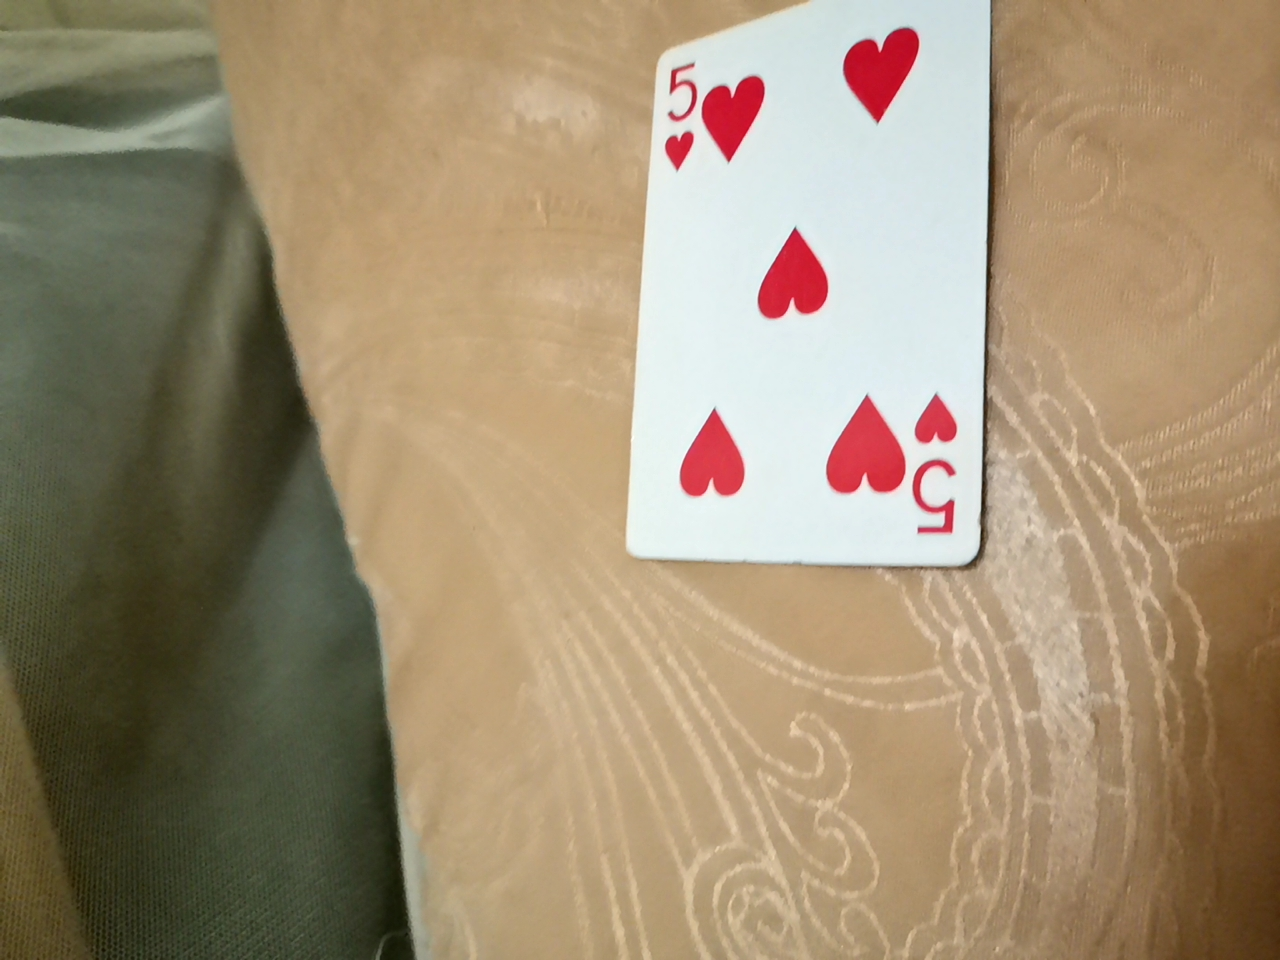hx 5: (625, 14, 990, 588)
